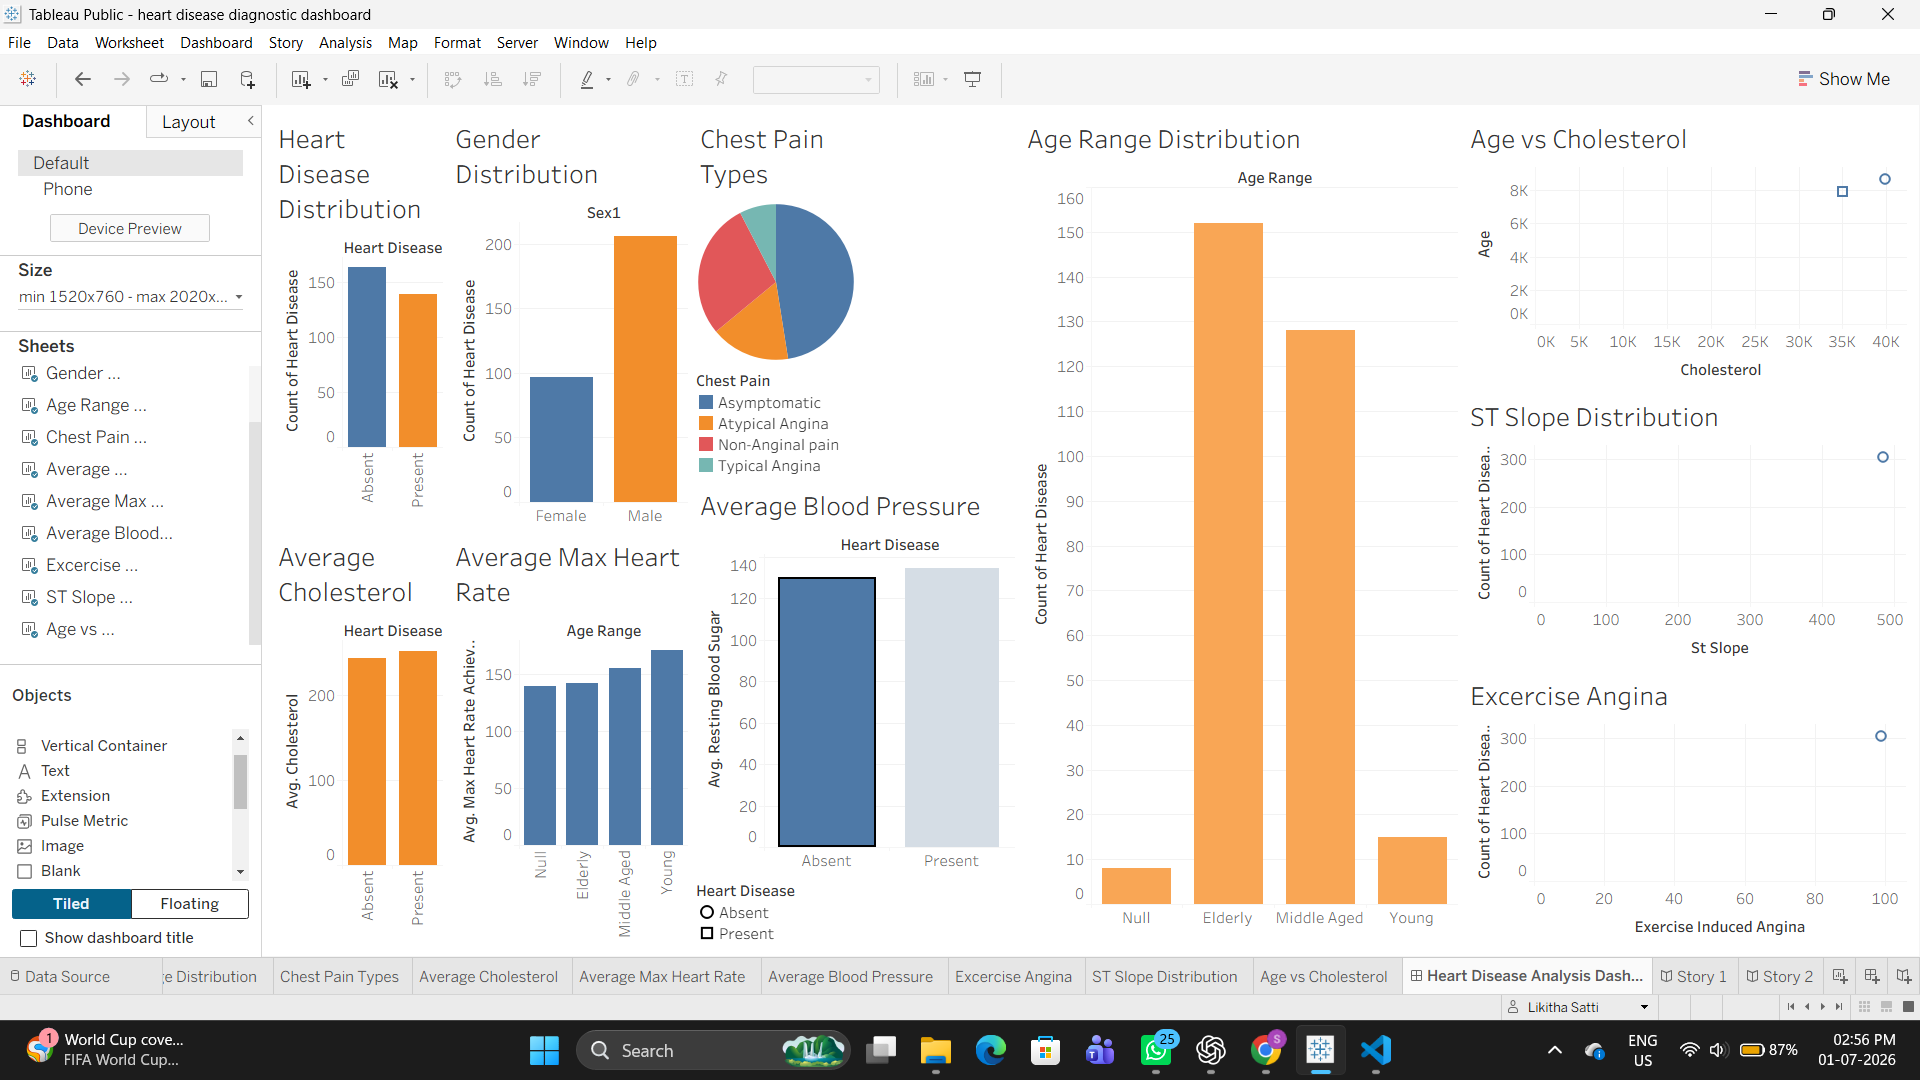

This screenshot's page, from the dashboard's own definition file:
{"tool":"tableau","page":{"name":"Heart Disease Analysis Dashboard","canvas":[1000,1000],"units":"permille","ordinal":0},"visuals":[{"type":"worksheet","title":"Heart Disease Distribution","mark":"Automatic","rows":["Heart_Disease"],"cols":["Heart_Disease"],"box":[4.8,9.4,106.6,490.6]},{"type":"worksheet","title":"Gender Distribution","mark":"Automatic","rows":["Heart_Disease"],"cols":["sex1"],"box":[111.5,9.4,148.1,490.6]},{"type":"worksheet","title":"Chest Pain Types","mark":"Pie","box":[259.5,9.4,197.3,297.3]},{"type":"worksheet","title":"Age Range Distribution","mark":"Automatic","rows":["Heart_Disease"],"cols":["Age_Range"],"box":[456.9,9.4,267.4,981.2]},{"type":"worksheet","title":"Age vs Cholesterol","mark":"Automatic","rows":["age"],"cols":["cholesterol"],"box":[724.2,9.4,271,327.1]},{"type":"legend","title":"Chest Pain Types","param":"[federated.0suhy701dqvmvs11jpklu1uarg4o].[none:Chest_Pain:nk]","box":[259.5,306.7,197.3,134]},{"type":"worksheet","title":"ST Slope Distribution","mark":"Automatic","rows":["Heart_Disease"],"cols":["st_slope"],"box":[724.2,336.5,271,327.1]},{"type":"worksheet","title":"Average Blood Pressure","mark":"Automatic","rows":["resting_blood_sugar"],"cols":["Heart_Disease"],"box":[259.5,440.7,197.3,465.3]},{"type":"worksheet","title":"Average Cholesterol","mark":"Automatic","rows":["cholesterol"],"cols":["Heart_Disease"],"box":[4.8,500,106.6,490.6]},{"type":"worksheet","title":"Average Max Heart Rate","mark":"Automatic","rows":["max_heart_rate_achieved"],"cols":["Age_Range"],"box":[111.5,500,148.1,490.6]},{"type":"worksheet","title":"Excercise Angina","mark":"Automatic","rows":["Heart_Disease"],"cols":["exercise_induced_angina"],"box":[724.2,663.5,271,327.1]},{"type":"legend","title":"Age vs Cholesterol","param":"[federated.0suhy701dqvmvs11jpklu1uarg4o].[none:Heart_Disease:nk]","box":[259.5,906,197.3,84.6]}]}

Visuals, with their boxes on the dashboard's canvas, which has no fixed pixel size, in thousandths of its width and height (x1, y1, x2, y2). These are canvas units, not pixel positions in the 1920x1080 screenshot, which may show the page scaled, cropped or inside an application window:
"Heart Disease Distribution" worksheet: bbox(5, 9, 111, 500)
"Gender Distribution" worksheet: bbox(112, 9, 260, 500)
"Chest Pain Types" worksheet (Pie marks): bbox(260, 9, 457, 307)
"Age Range Distribution" worksheet: bbox(457, 9, 724, 991)
"Age vs Cholesterol" worksheet: bbox(724, 9, 995, 336)
"Chest Pain Types" legend: bbox(260, 307, 457, 441)
"ST Slope Distribution" worksheet: bbox(724, 336, 995, 664)
"Average Blood Pressure" worksheet: bbox(260, 441, 457, 906)
"Average Cholesterol" worksheet: bbox(5, 500, 111, 991)
"Average Max Heart Rate" worksheet: bbox(112, 500, 260, 991)
"Excercise Angina" worksheet: bbox(724, 664, 995, 991)
"Age vs Cholesterol" legend: bbox(260, 906, 457, 991)
